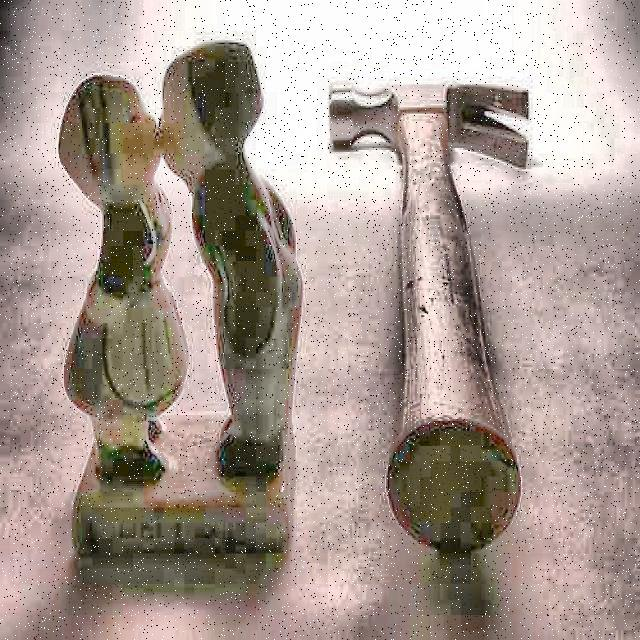hammer: (325, 77, 533, 559)
